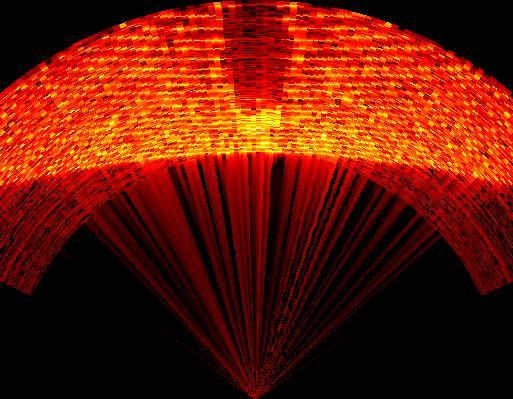box_crate: (222, 0, 297, 107)
